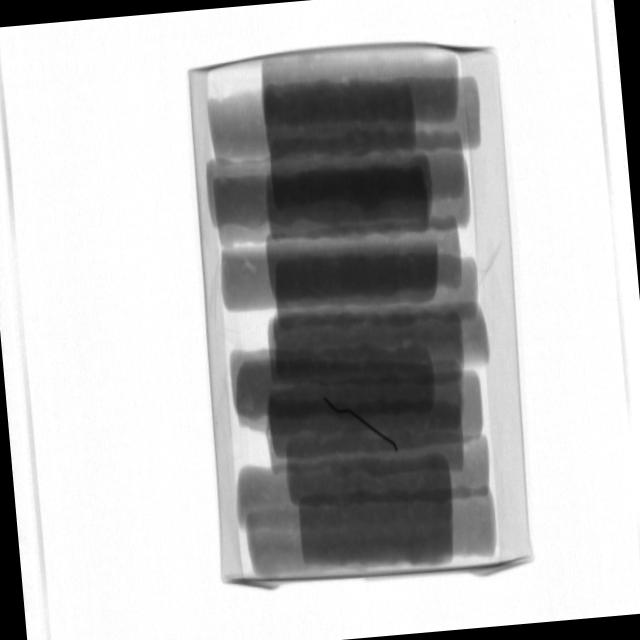ym: (326, 387, 400, 457)
